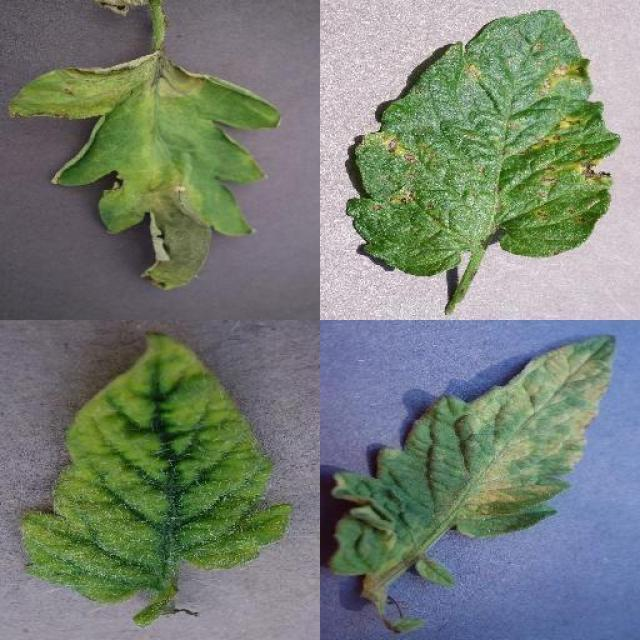Late Blight: (4, 50, 285, 292)
Septoria: (345, 8, 621, 278)
